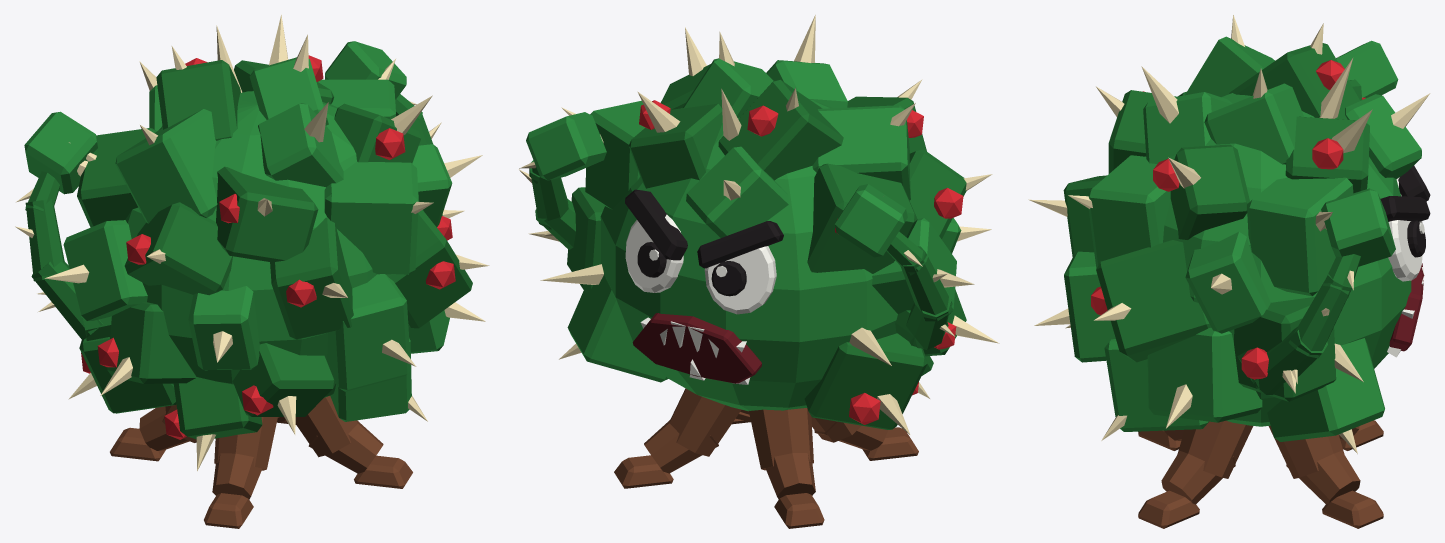
The model's file is boss_thornbush.glb.
The picture shows the model from 3 angles, left to right: view 1: azimuth 30°, elevation 25°; view 2: azimuth 150°, elevation 25°; view 3: azimuth 270°, elevation 25°; orthographic projection. The views are drawn at different scales.
Visible parts, largest first — view 1: Grass__288C3C, Grass__1E702E, Wood__70422A, SmoothPlastic__EEDEB0, SmoothPlastic__D62630; view 2: Grass__288C3C, Grass__1E702E, Wood__70422A, SmoothPlastic__EEDEB0, SmoothPlastic__1C181A, SmoothPlastic__F8F8F0, SmoothPlastic__60161E, SmoothPlastic__D62630; view 3: Grass__288C3C, Grass__1E702E, Wood__70422A, SmoothPlastic__EEDEB0, SmoothPlastic__D62630, SmoothPlastic__1C181A, SmoothPlastic__F8F8F0, SmoothPlastic__60161E.
Part boxes in pixels (<box>): Grass__288C3C: <box>24,41,452,421</box>; Grass__1E702E: <box>25,60,472,439</box>; Wood__70422A: <box>110,396,412,528</box>; SmoothPlastic__EEDEB0: <box>15,14,489,471</box>; SmoothPlastic__D62630: <box>81,55,455,439</box>; Grass__288C3C: <box>526,58,961,411</box>; Grass__1E702E: <box>529,64,966,429</box>; Wood__70422A: <box>614,388,918,528</box>; SmoothPlastic__EEDEB0: <box>518,15,999,434</box>; SmoothPlastic__1C181A: <box>625,189,783,296</box>; SmoothPlastic__F8F8F0: <box>625,214,776,384</box>; SmoothPlastic__60161E: <box>632,313,761,383</box>; SmoothPlastic__D62630: <box>639,100,963,424</box>; Grass__288C3C: <box>1064,36,1421,441</box>; Grass__1E702E: <box>1063,43,1369,401</box>; Wood__70422A: <box>1138,420,1383,528</box>; SmoothPlastic__EEDEB0: <box>1028,15,1430,453</box>; SmoothPlastic__D62630: <box>1091,60,1365,379</box>; SmoothPlastic__1C181A: <box>1380,165,1430,257</box>; SmoothPlastic__F8F8F0: <box>1387,177,1424,357</box>; SmoothPlastic__60161E: <box>1389,263,1424,351</box>.
Bounding box in the file's own units: 17.46 × 16.15 × 13.61.
